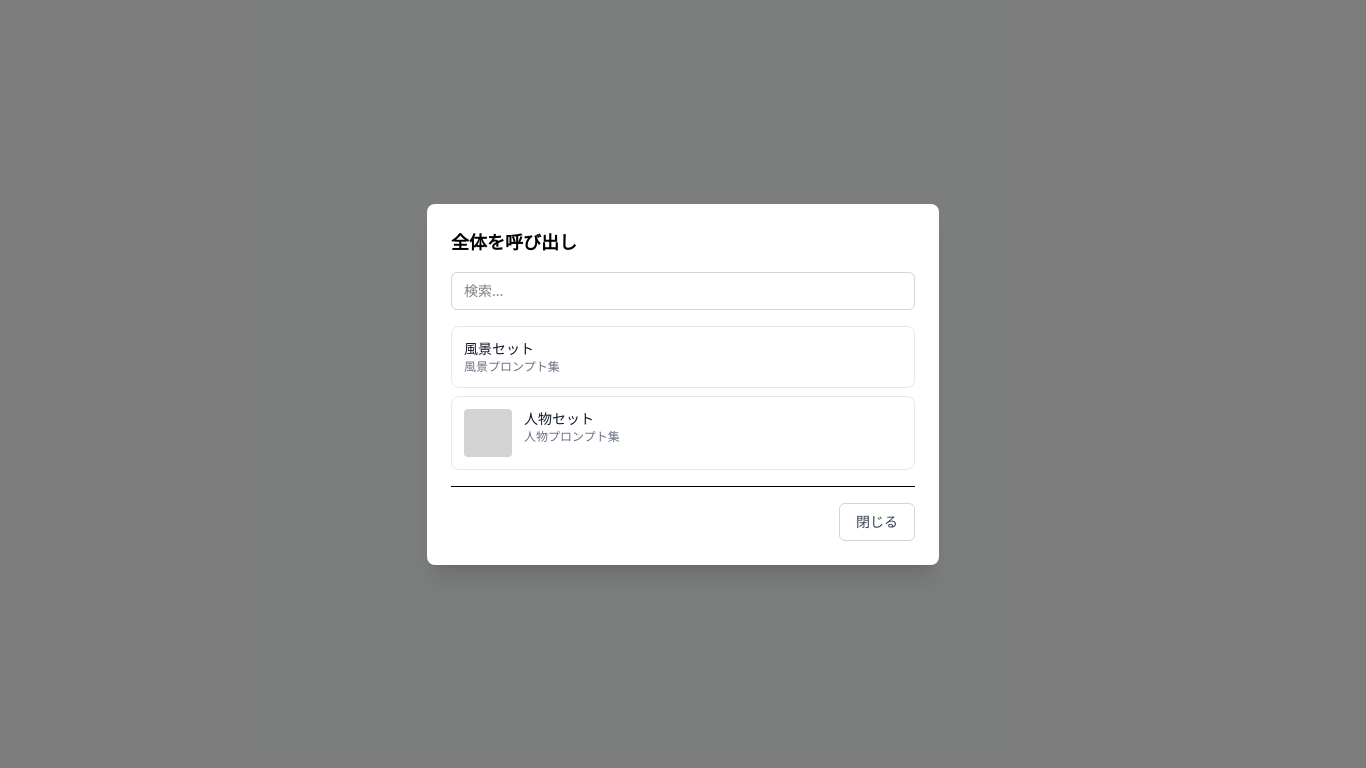
BundleLoadDialog › バンドル選択エラー時にエラーメッセージが表示される
expect the text "風景セット" is shown: met, box [464,338,534,358]
Click the button with test id "bundle-load-item-1".
click(499, 348)  # box [451,326,915,388]
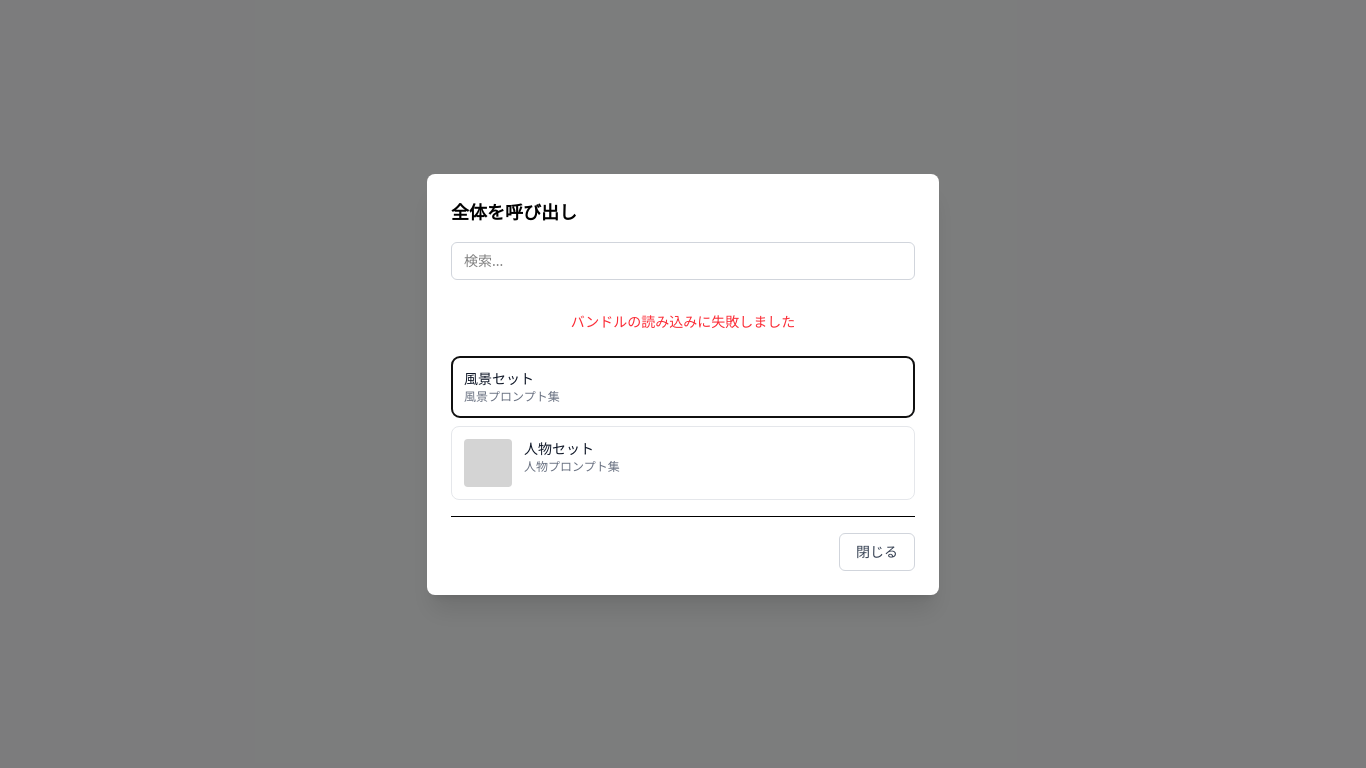
expect the text "バンドルの読み込みに失敗しました" is shown: met, box [571,312,795,330]
